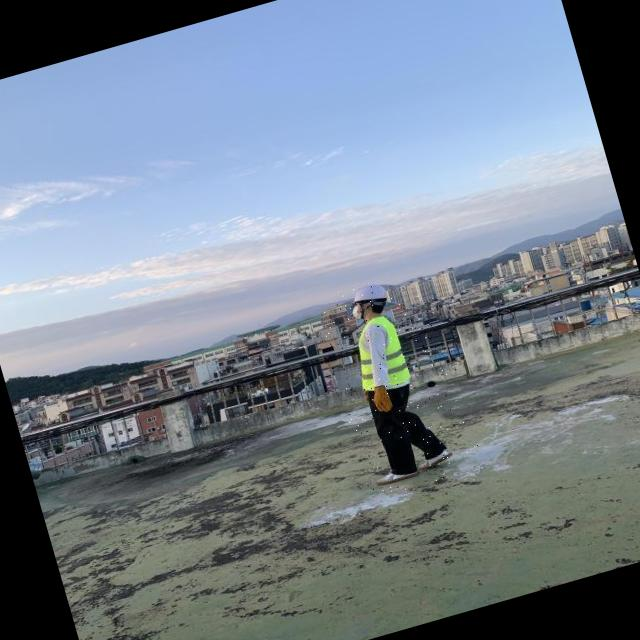hard_hat: (346, 280, 388, 308)
safety_vest: (345, 312, 412, 393)
vehicle: (314, 266, 485, 499)
work_boots: (374, 465, 420, 487), (416, 448, 455, 472)
